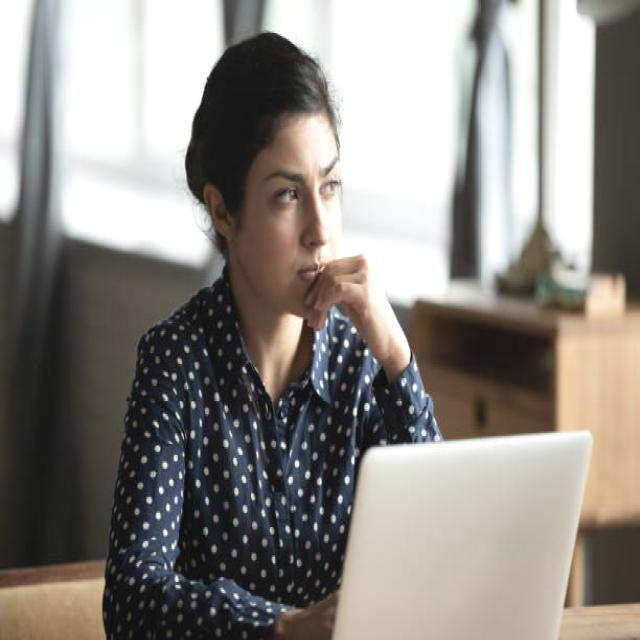Looking away: (249, 124, 344, 318)
